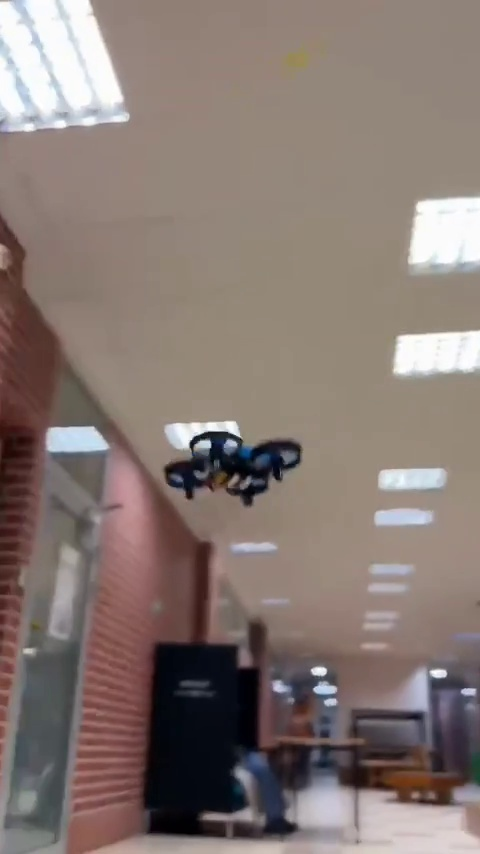drone: (165, 431, 306, 500)
